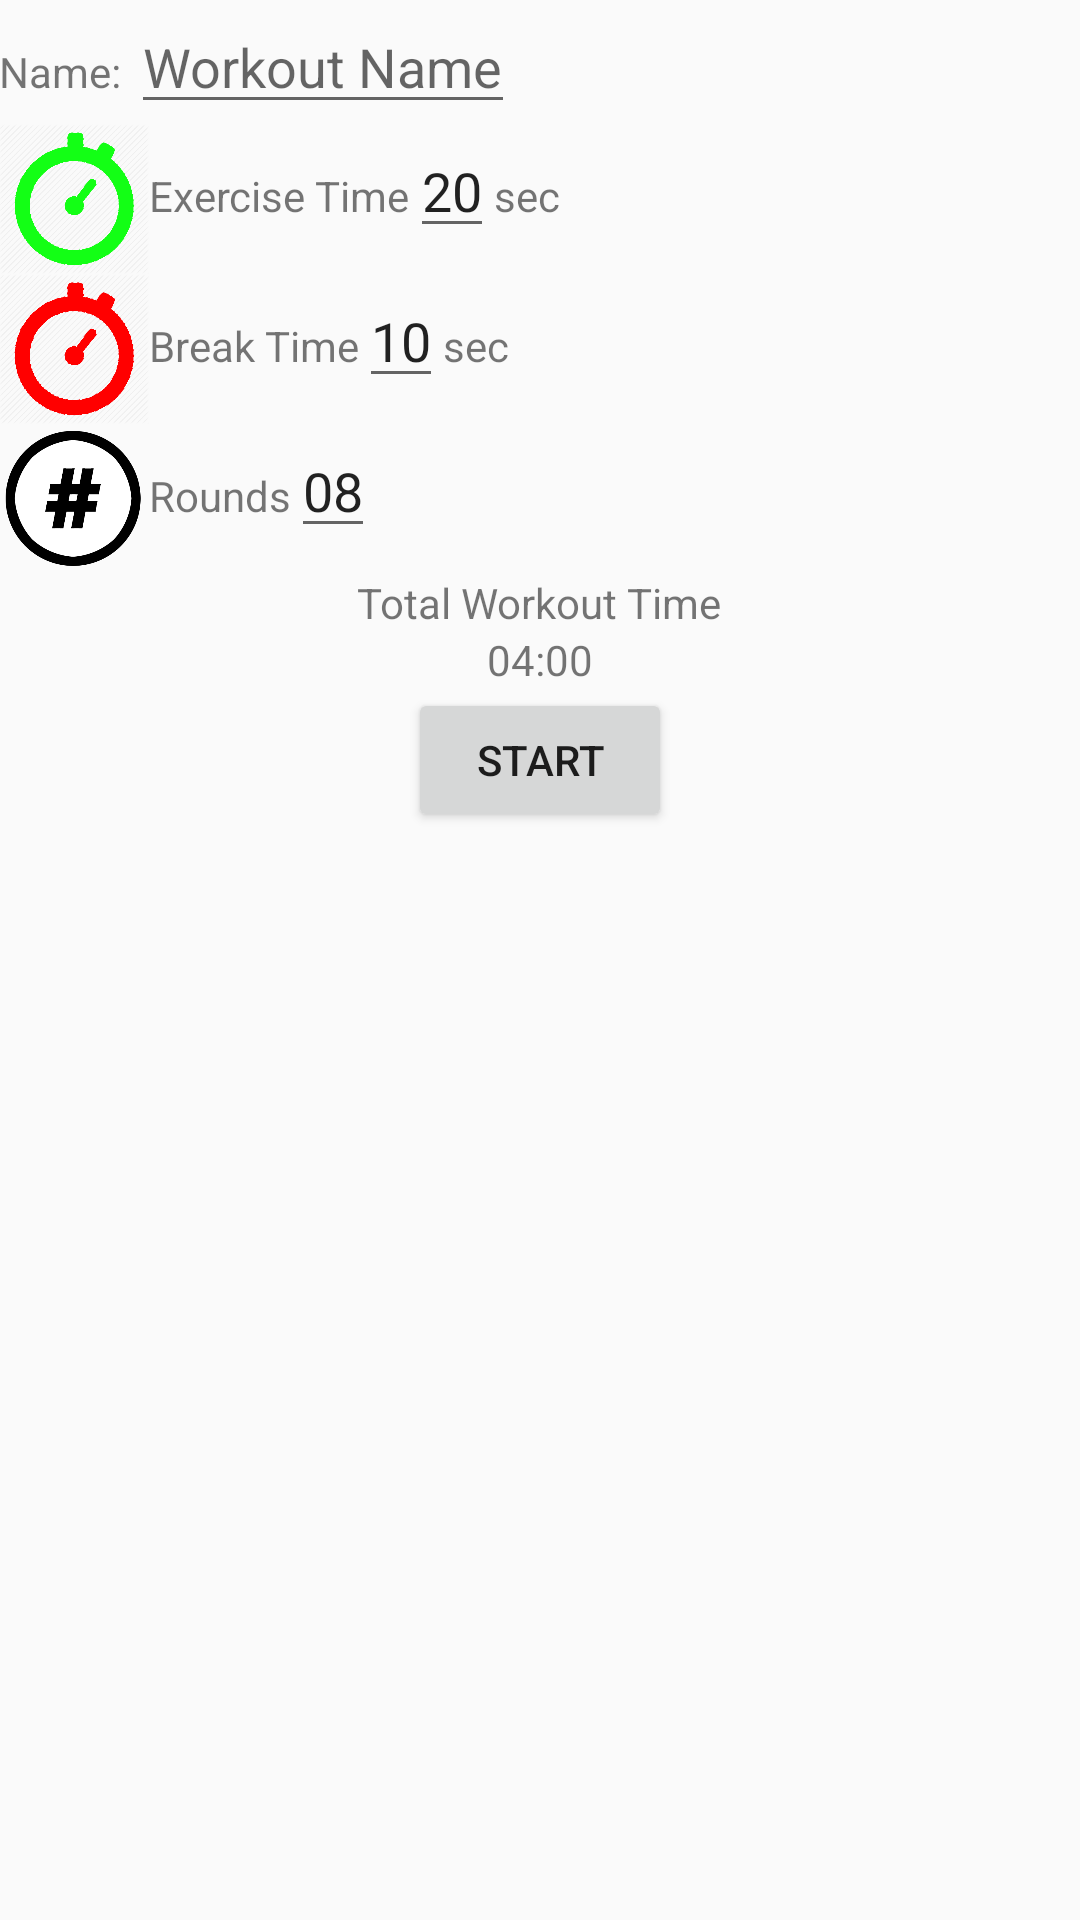

Icons on this 1080 x 1920 Android screen, each with the point to tap as point (x, y):
count: point (73, 498)
timer: point (74, 198)
timer break: point (74, 349)
